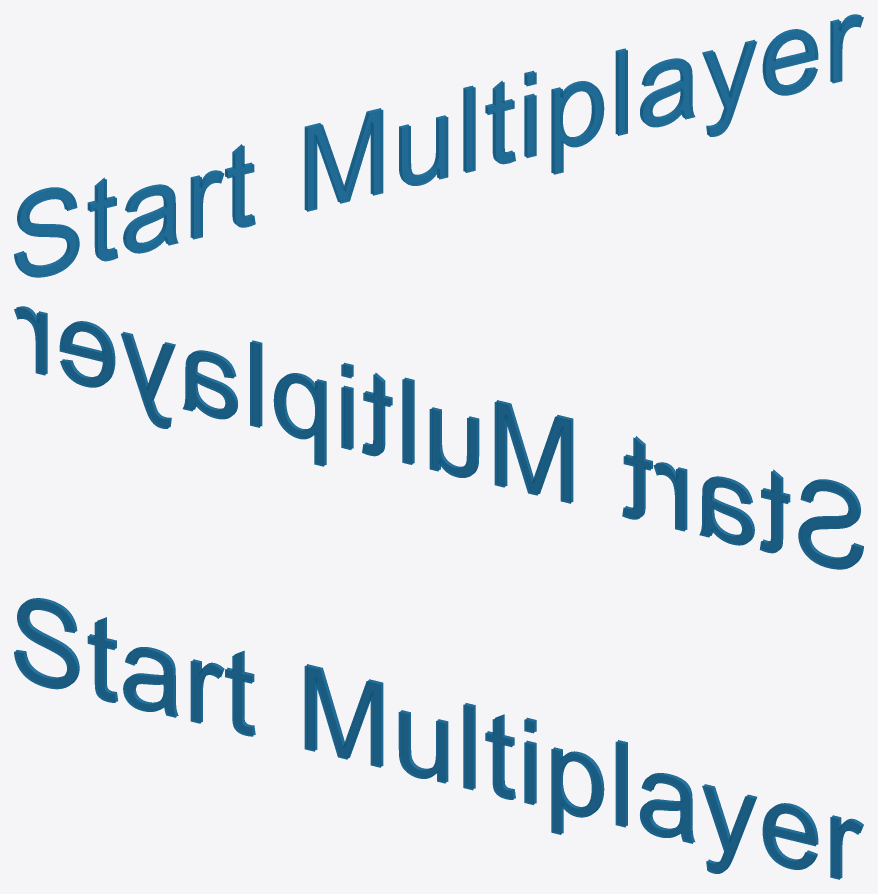
The model's file is Start_Multiplayer_Menu.FBX.
3 renders of one model, top to bottom at view 1: azimuth 30°, elevation 25°; view 2: azimuth 150°, elevation 25°; view 3: azimuth 330°, elevation 25°, orthographic.
Visible parts, largest first — view 1: TextPlus010; view 2: TextPlus010; view 3: TextPlus010.
Boxes of the visible parts, x1,y1,x2,y2 form: TextPlus010: (14, 14, 863, 277); TextPlus010: (14, 306, 863, 569); TextPlus010: (14, 598, 863, 879).
Bounding box in the file's own units: 40.34 × 4.98 × 0.2169.
